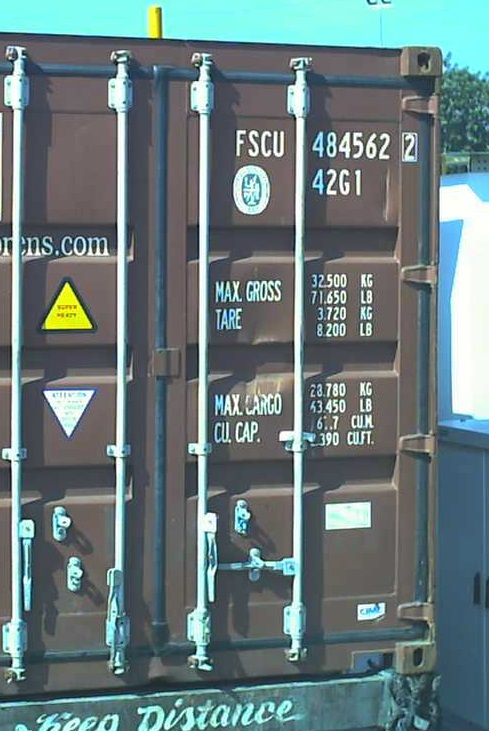container_door: (4, 25, 439, 699)
